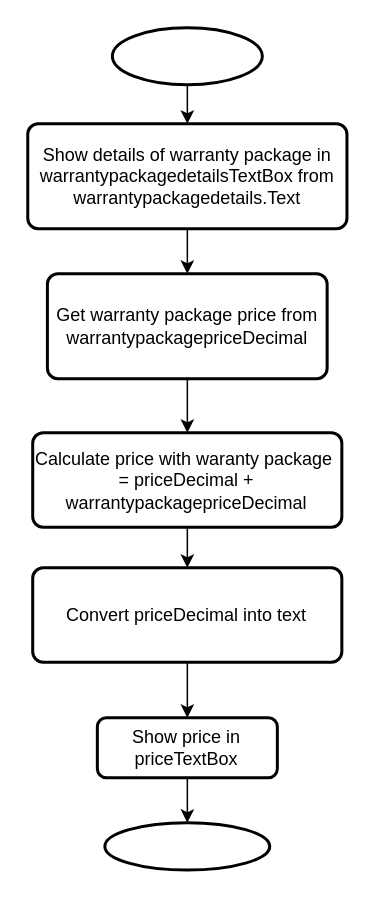
Some shapes in this 374 by 897 pixel diagram are drawn without their labels. The shapes that lost their labels are listed below. From the top down, each one's centre as x and y in pixels, then its label:
the point at 186,56: Start
the point at 186,845: End
